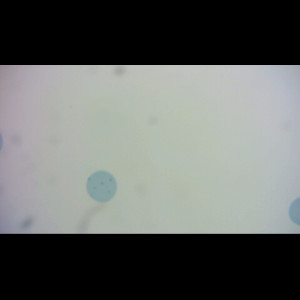punctate reticulocyte: (85, 170, 118, 204)
